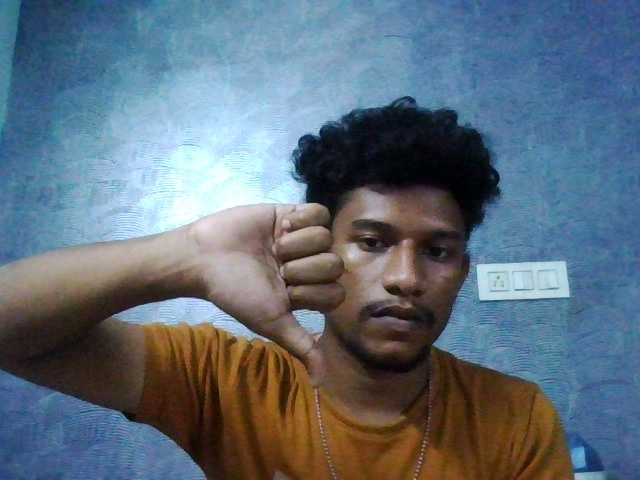no: (180, 191, 356, 396)
